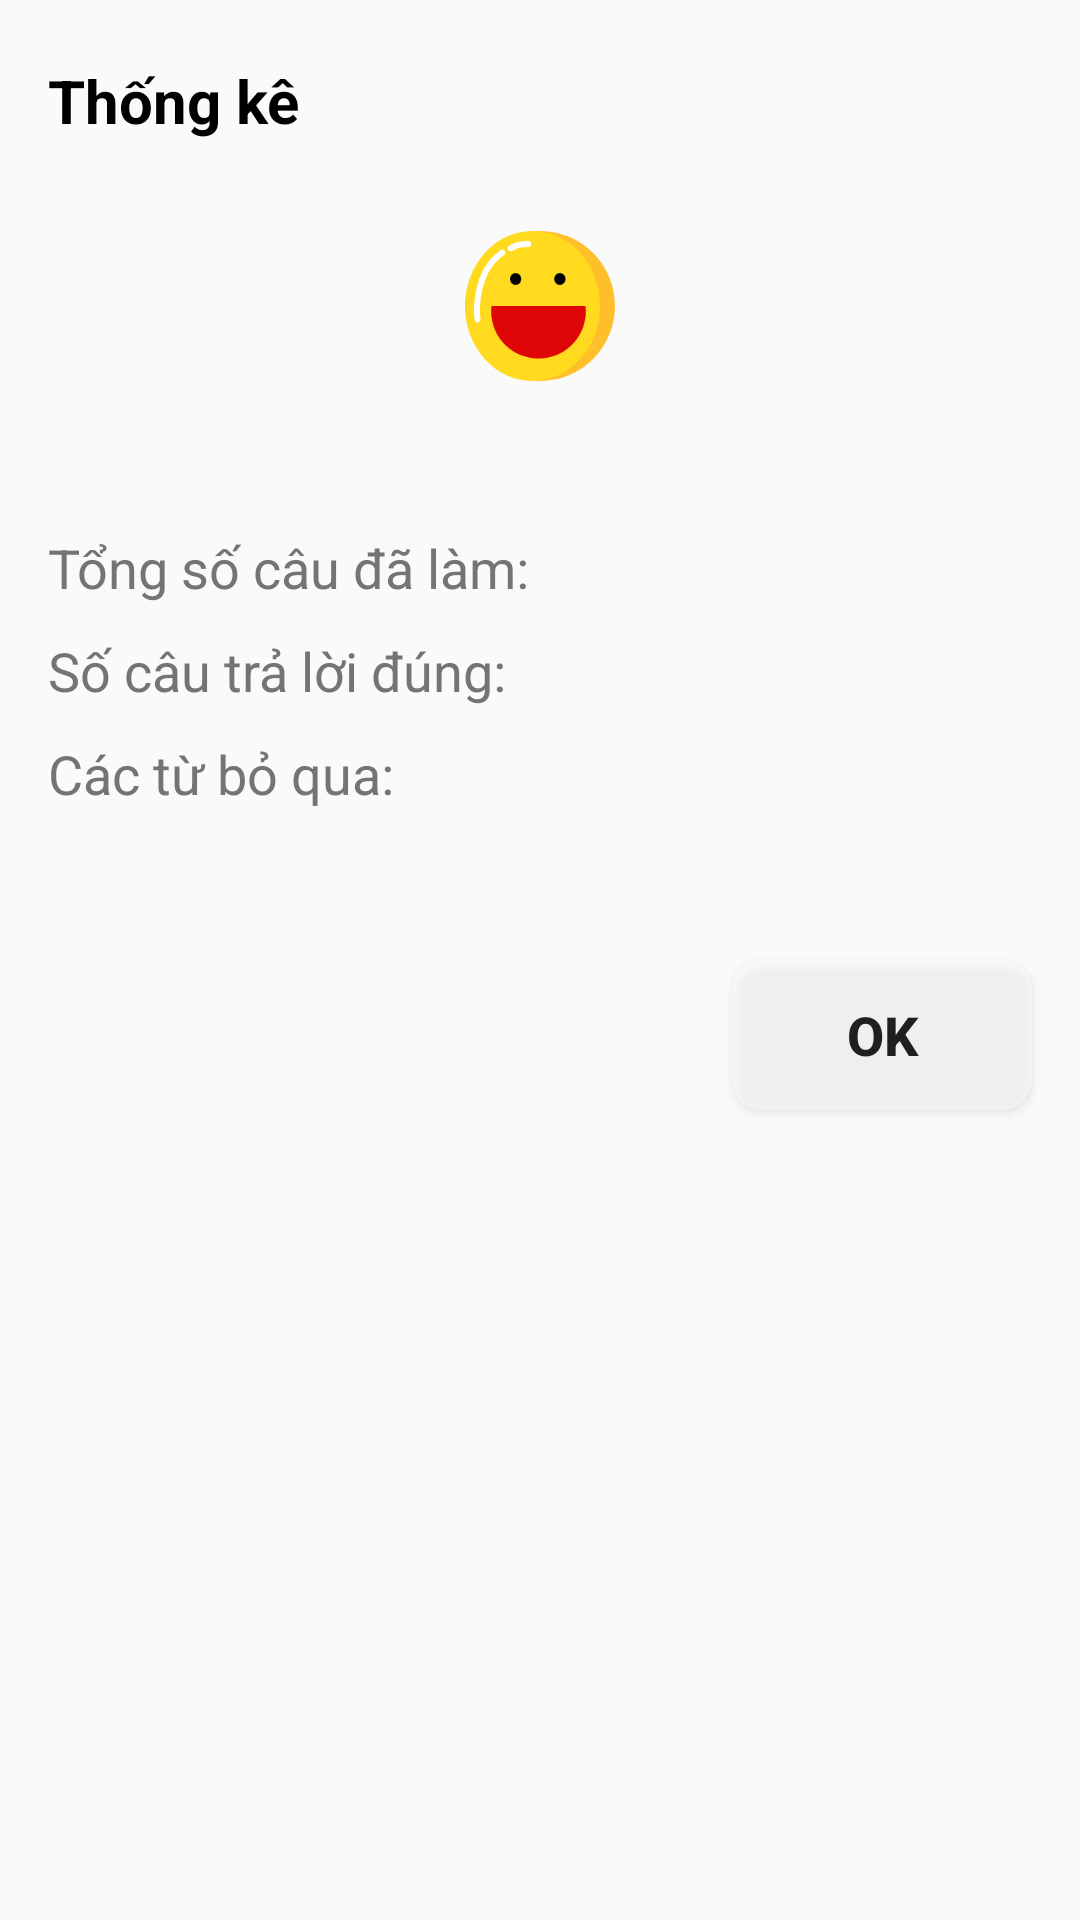

Icons on this 1080x1920 Android screen, each with its box as (x1, y1, x2, y2):
cuoi: (465, 231, 615, 381)
